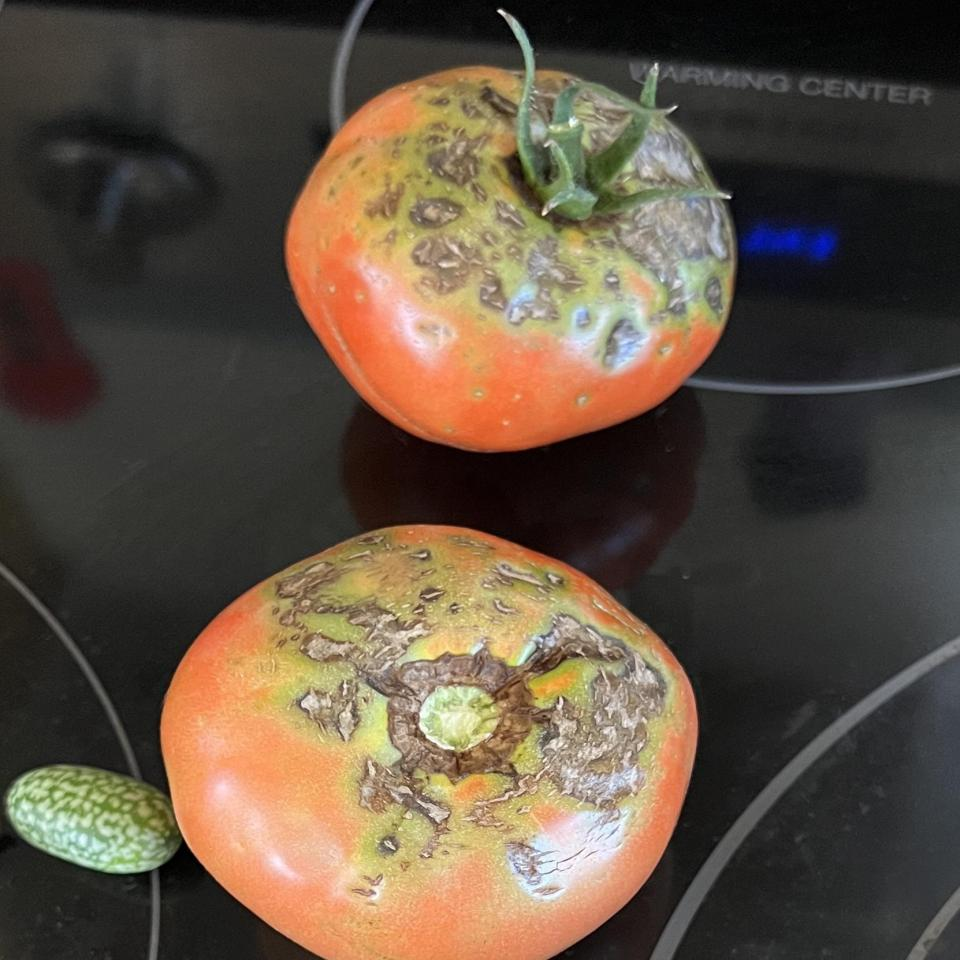Spotted wilt Virus: (159, 527, 701, 960), (286, 63, 738, 449)
